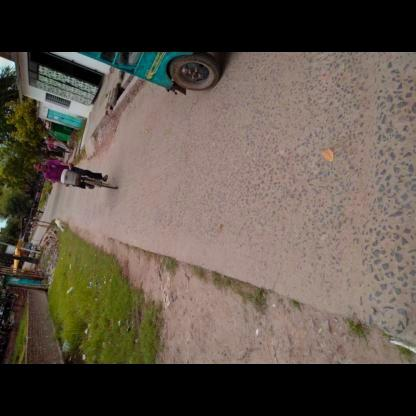Bicycle: (54, 156, 123, 205)
